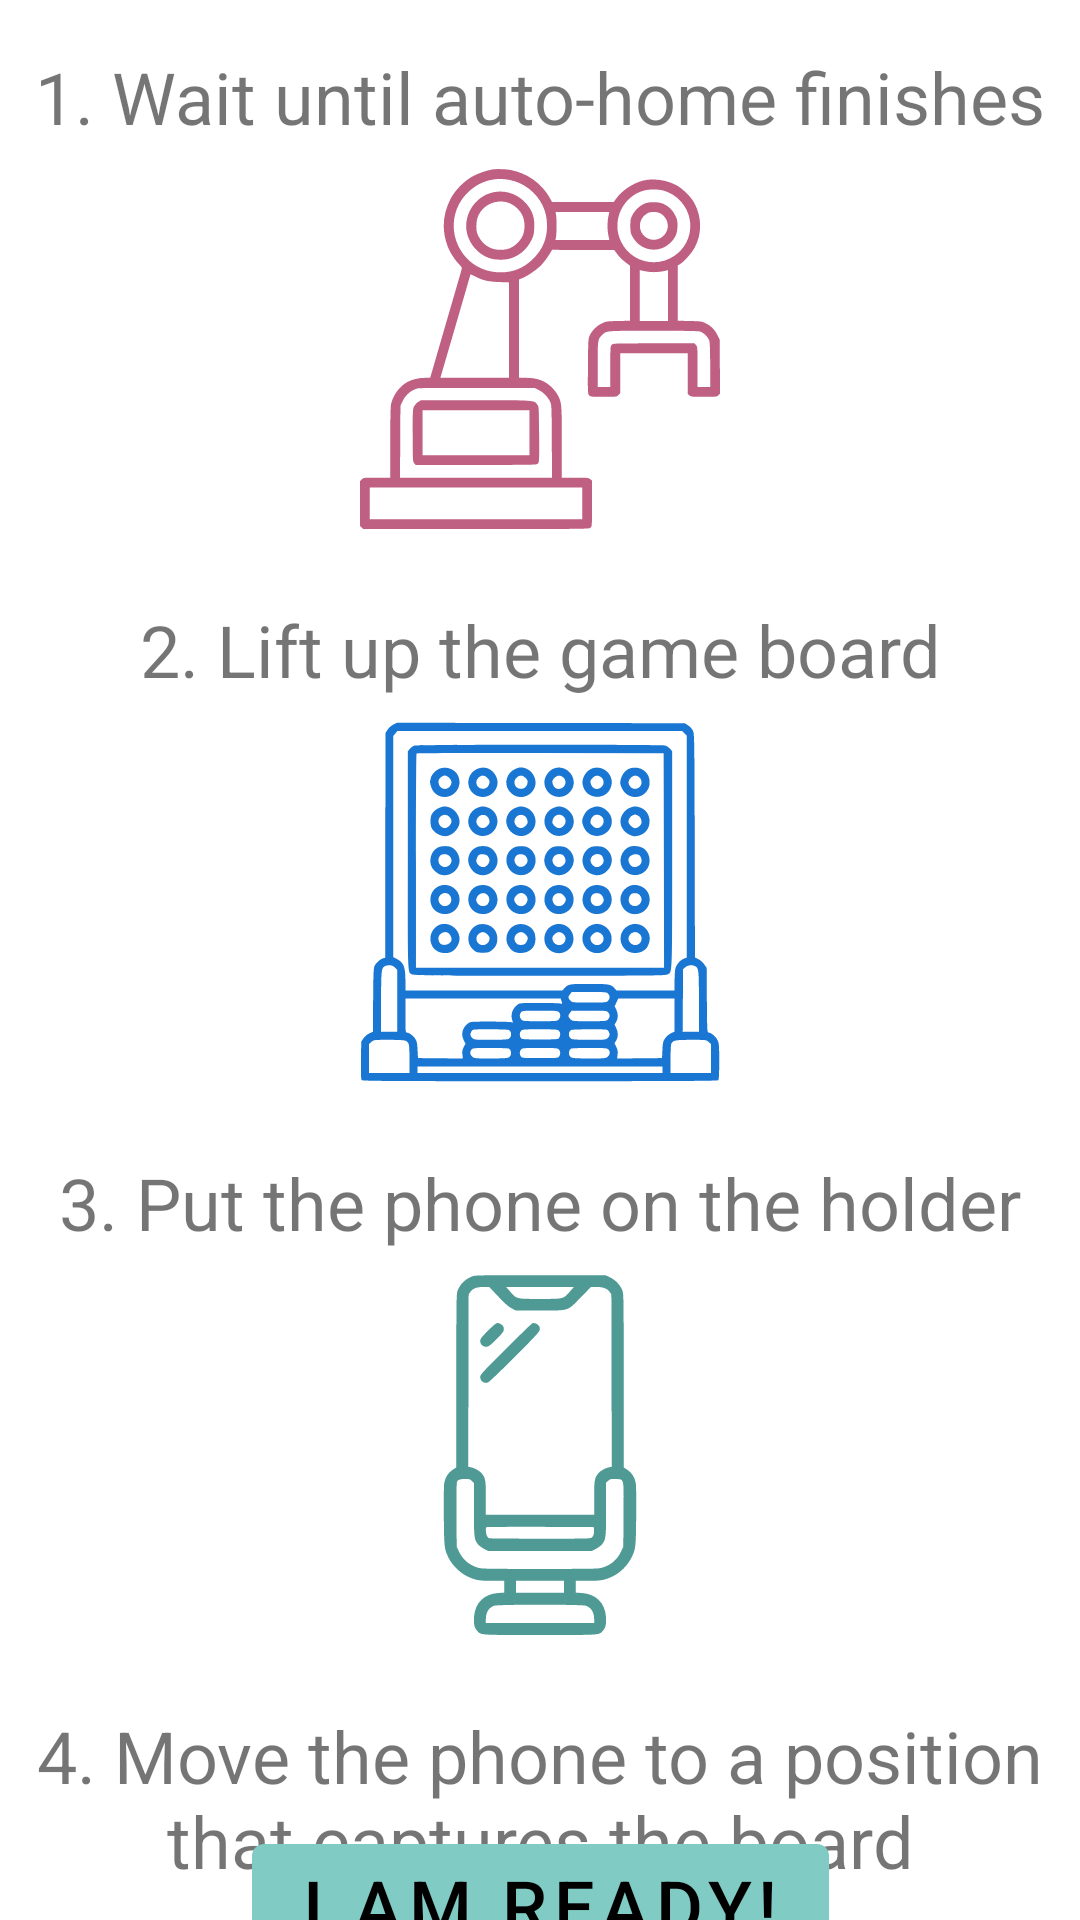

Screen size 1080*1920. Icon name, then its box in pixels as (x1,y1,x2,y2):
connect: (361,722,720,1082)
phone stand: (443,1275,637,1635)
robot arm: (360,169,720,529)
